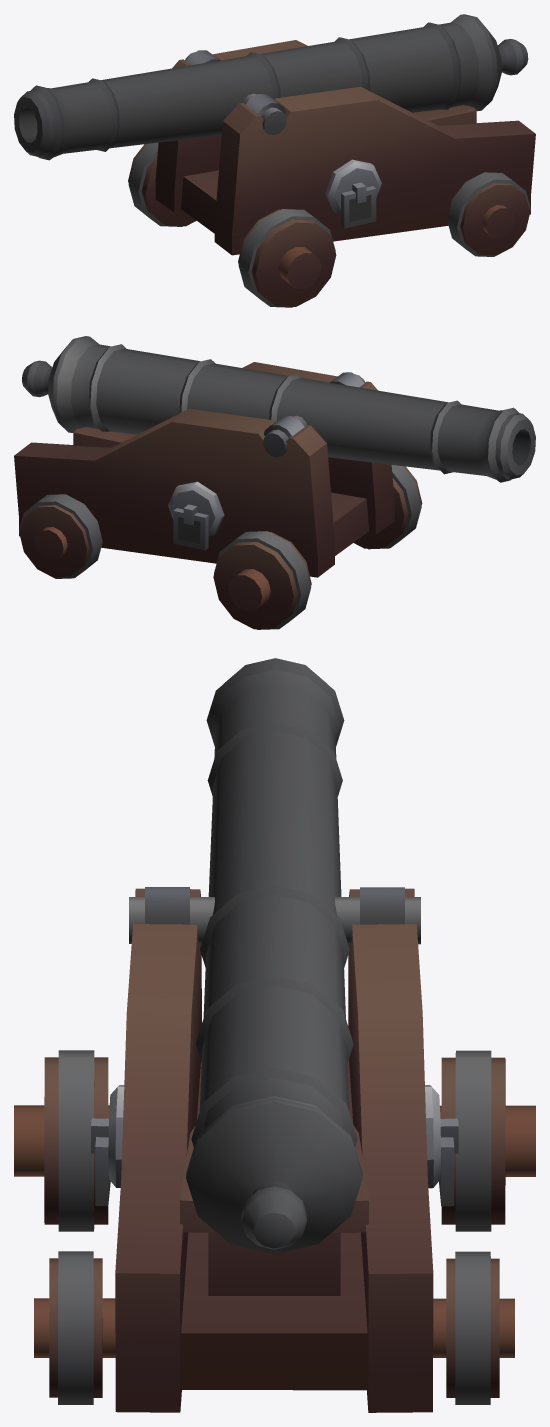
File: Cannon.fbx
The picture shows the model from 3 angles, top to bottom: view 1: azimuth 30°, elevation 25°; view 2: azimuth 150°, elevation 25°; view 3: azimuth 270°, elevation 25°; orthographic projection. The views are drawn at different scales.
Parts seen in each view (by area): view 1: Cannon, Barrel; view 2: Cannon, Barrel; view 3: Cannon, Barrel.
Boxes of the visible parts, x1,y1,x2,y2 form: Cannon: (128, 40, 535, 307); Barrel: (14, 14, 528, 160); Cannon: (14, 362, 422, 629); Barrel: (22, 336, 535, 482); Cannon: (14, 887, 535, 1412); Barrel: (129, 658, 420, 1253).
Bounding box in the file's own units: 4.54 × 2.28 × 1.92.
